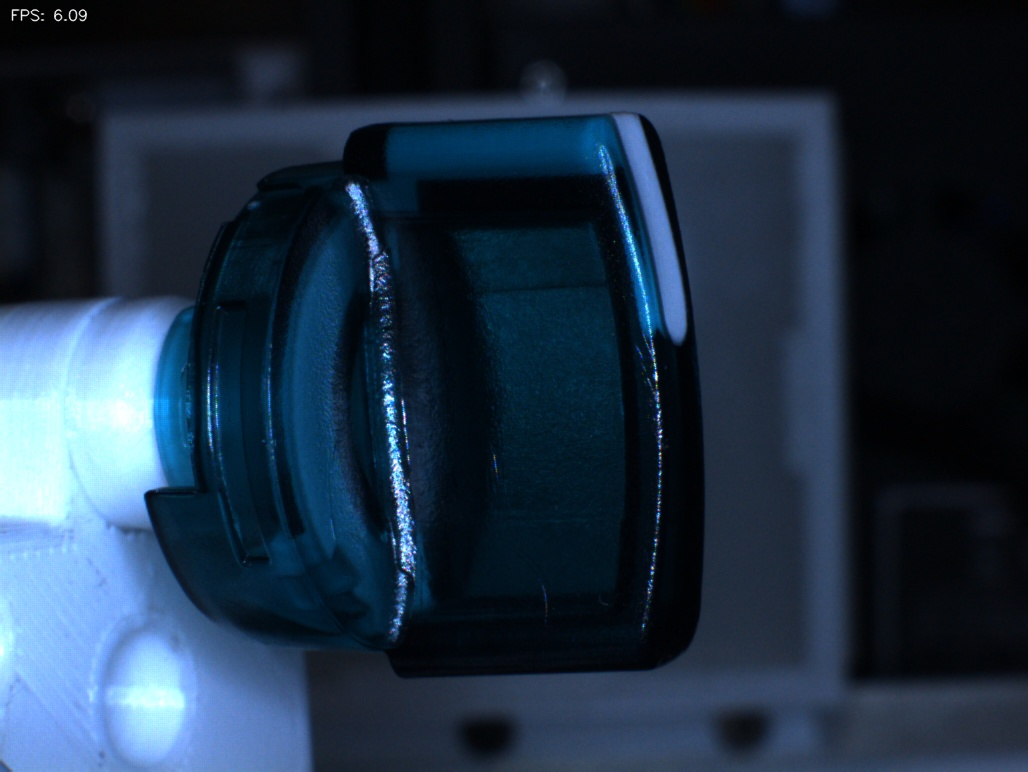Givrage: (464, 424, 574, 650), (620, 335, 682, 429)
